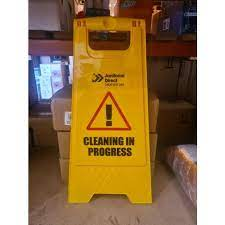wet caution sign: (69, 13, 150, 203)
